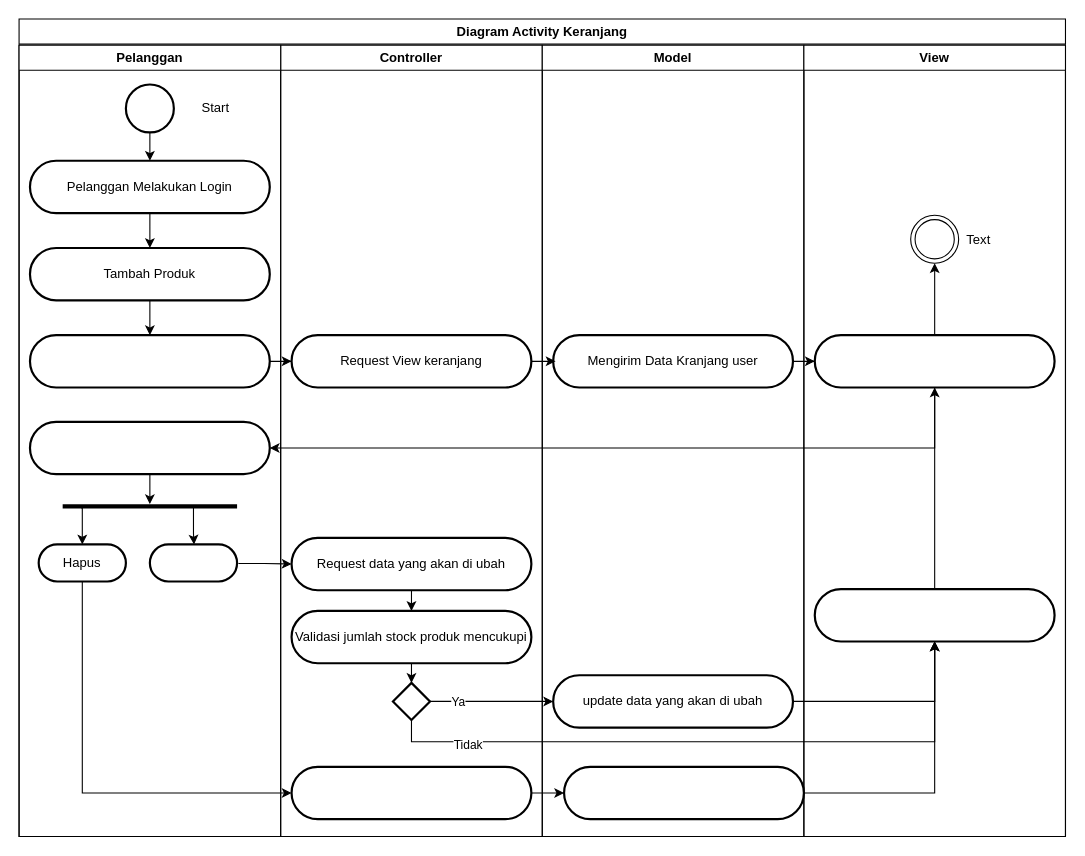
Some shapes in this 1085 by 856 pixel diagram are drawn without their labels. Here are the shapes that lost their labels. From the top down, the centre of each, then its label:
the point at 149,361: Memilih Menu Keranjang
the point at 934,361: Menampilkan Keranjang
the point at 149,447: Kontrol
the point at 193,562: Edit
the point at 934,615: Menampilkan Pesan
the point at 411,792: Request data yang akan di hapus
the point at 683,792: Mengubah Data yang ingin dihapus
